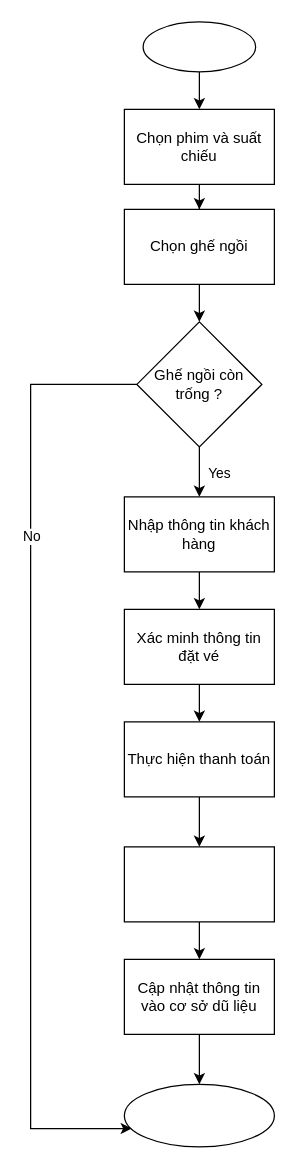
This 296x1169 diagram has some shape labels left out. The box of each missing label's shape, as (x1, y1, x2, y2) in pixels:
Gửi mail xác nhận vé đến khách hàng: (123, 846, 274, 922)
Start: (142, 21, 256, 72)
Stop: (123, 1083, 274, 1147)
